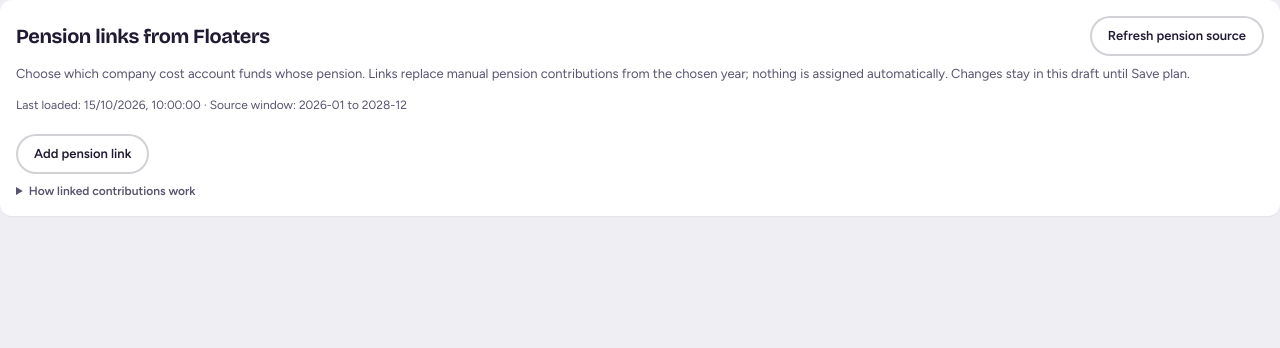
Test case: PensionLinks › offers actual cost accounts with pension names first, excludes VAT, and does not mutate the plan
Later steps or results of the test are not shown.
Click the button "Add pension link". click: (83,154)
box: [16, 134, 149, 174]
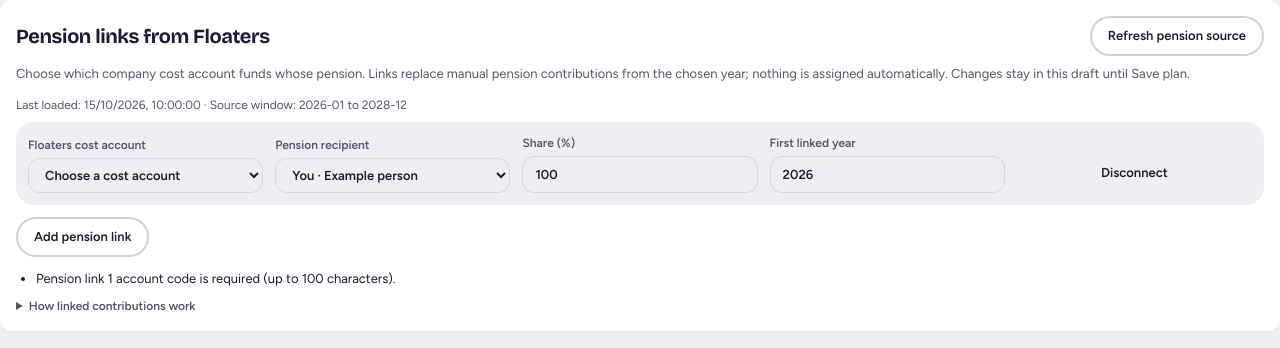
Result: the dropdown named "Pension link 1 account" shows "Choose a cost account" at [28, 158, 263, 193]
